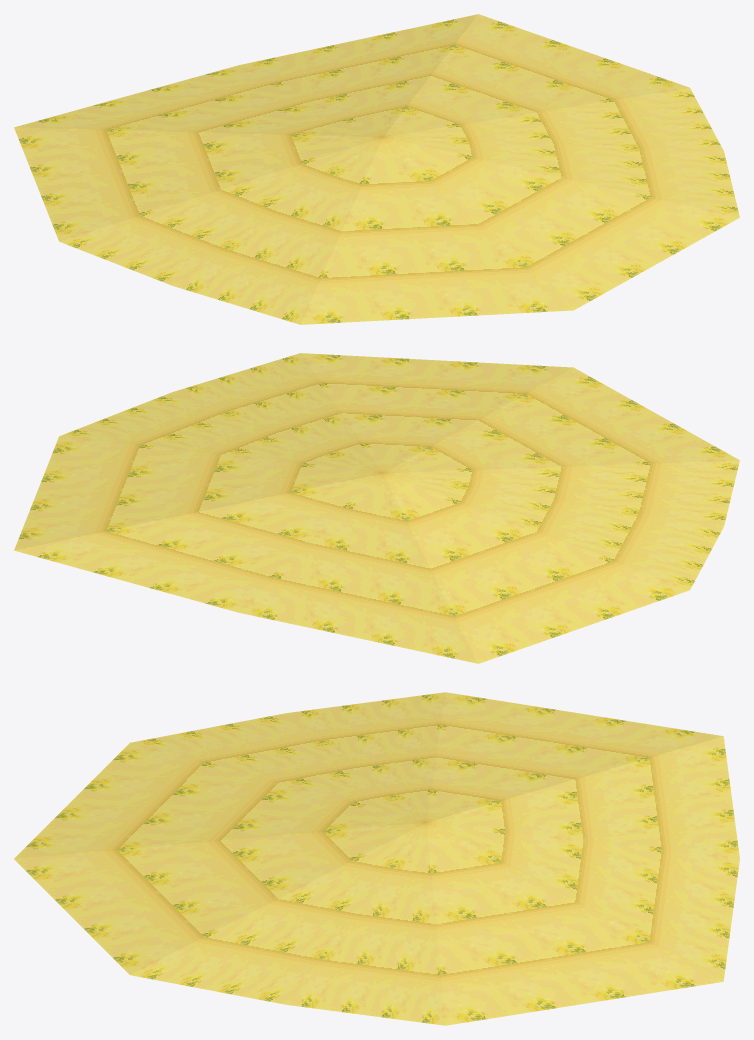
File: 1390item2780r.gltf
The picture shows the model from 3 angles, top to bottom: view 1: azimuth 30°, elevation 25°; view 2: azimuth 150°, elevation 25°; view 3: azimuth 270°, elevation 25°; orthographic projection. The views are drawn at different scales.
Parts seen in each view (by area): view 1: 1390item2780r; view 2: 1390item2780r; view 3: 1390item2780r.
Part boxes in pixels (box(x1,y1,x2,y2)): 1390item2780r: box(14, 14, 739, 324); 1390item2780r: box(14, 353, 739, 663); 1390item2780r: box(14, 692, 739, 1025).
Bounding box in the file's own units: 0.6147 × 0.0312 × 0.5654.
Materials: 1 (1 with a texture image).
